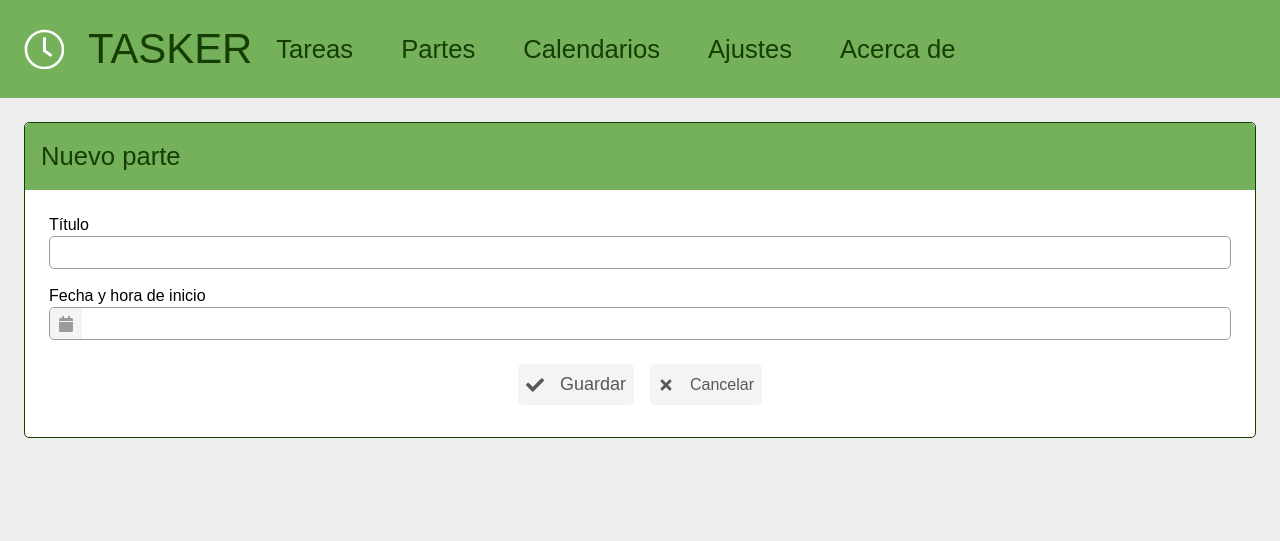
Test: Nuevo parte › Guarda un parte nuevo correctamente
Type "Parte success" into the field named "title" at (640, 252), box top-left (49, 236), bottom-right (1231, 269)
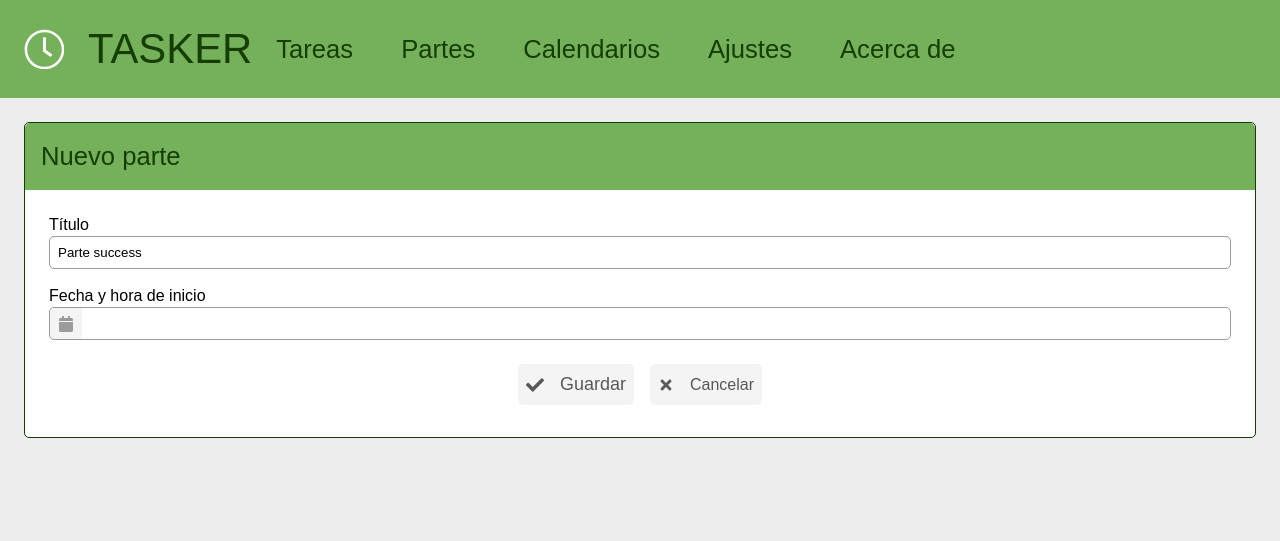
Type "01/01/2020 08:00" into the field named "startDatetime" at (656, 324), box top-left (82, 308), bottom-right (1230, 339)
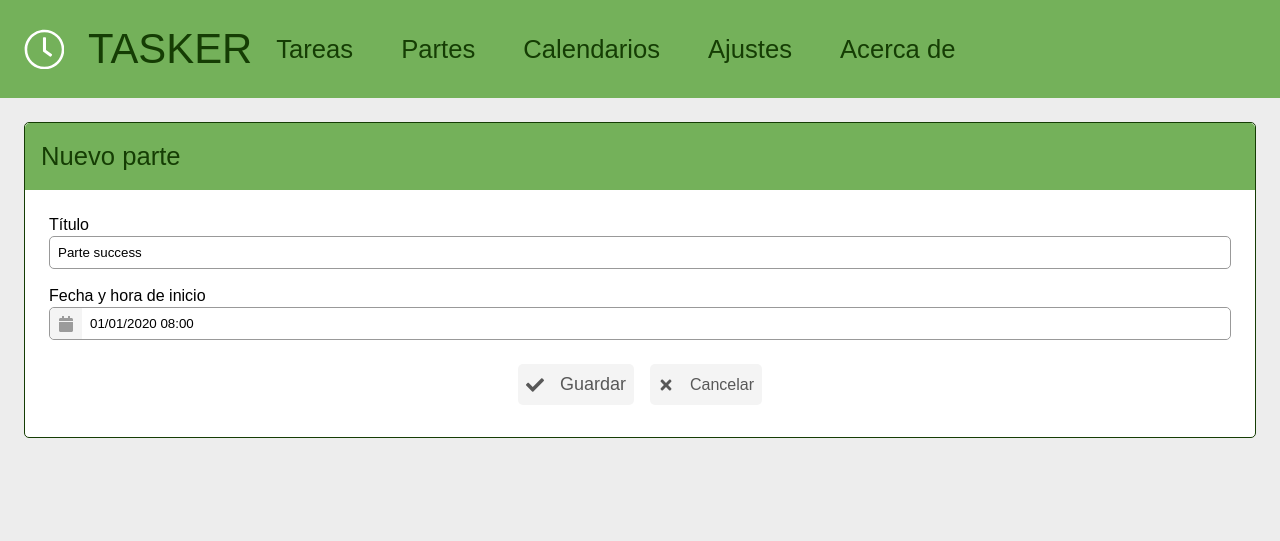
Click the button "Guardar" at (576, 384), box top-left (518, 364), bottom-right (634, 405)
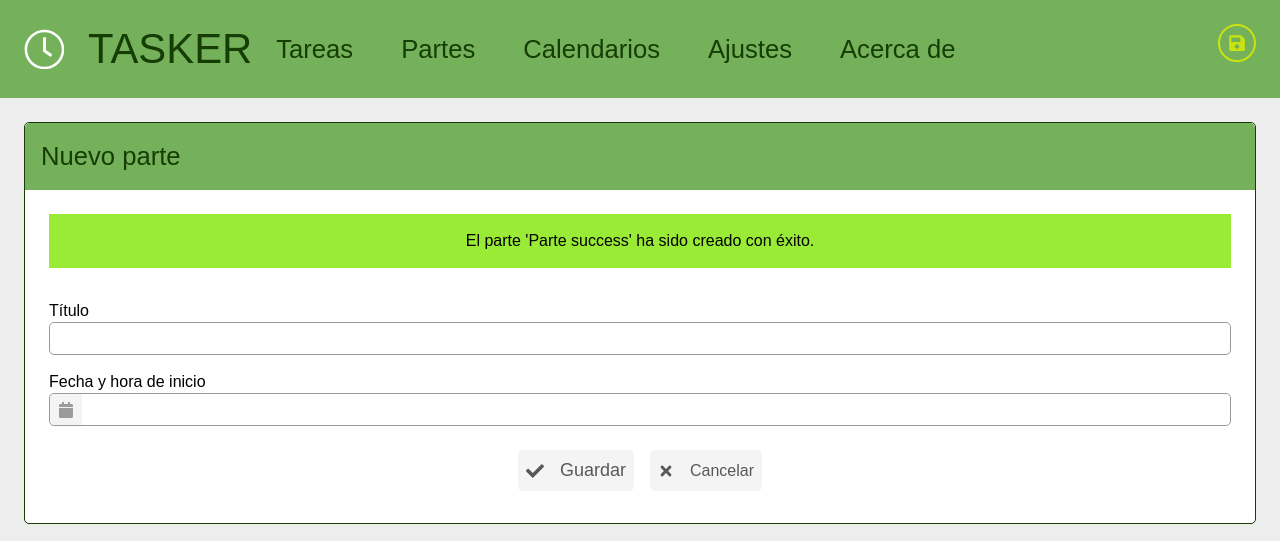
Result: the element named "success-message" shows "El parte 'Parte success' ha sido creado con éxito" at top-left (49, 214), bottom-right (1231, 268)
